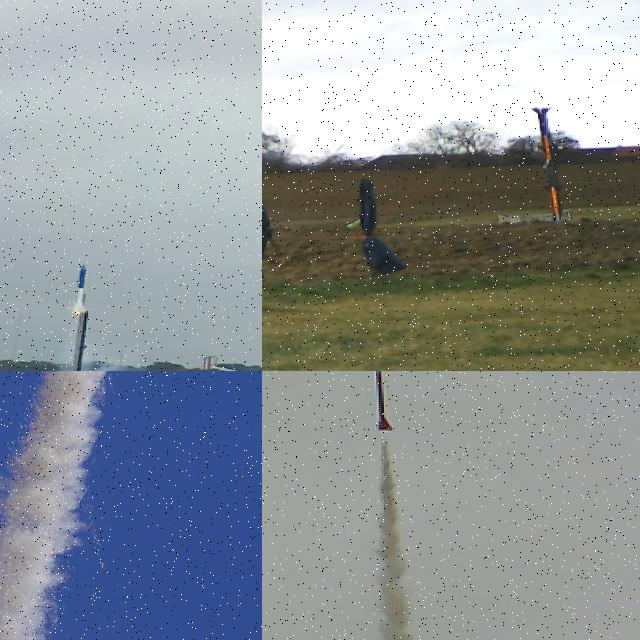Rocket: (538, 110, 562, 222), (374, 371, 394, 432), (71, 264, 88, 314)
